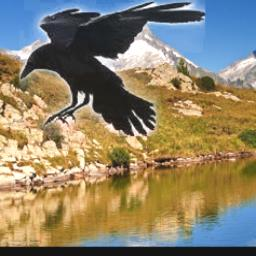Crow: (19, 0, 205, 137)
